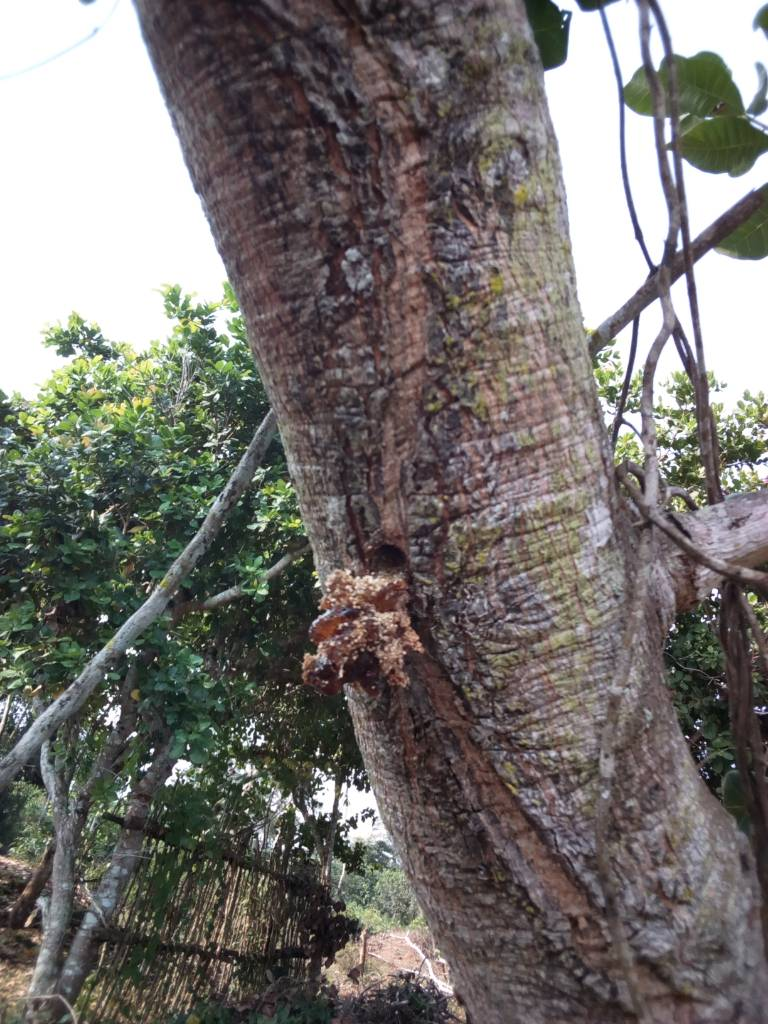Apate terebrans: (275, 541, 458, 702)
